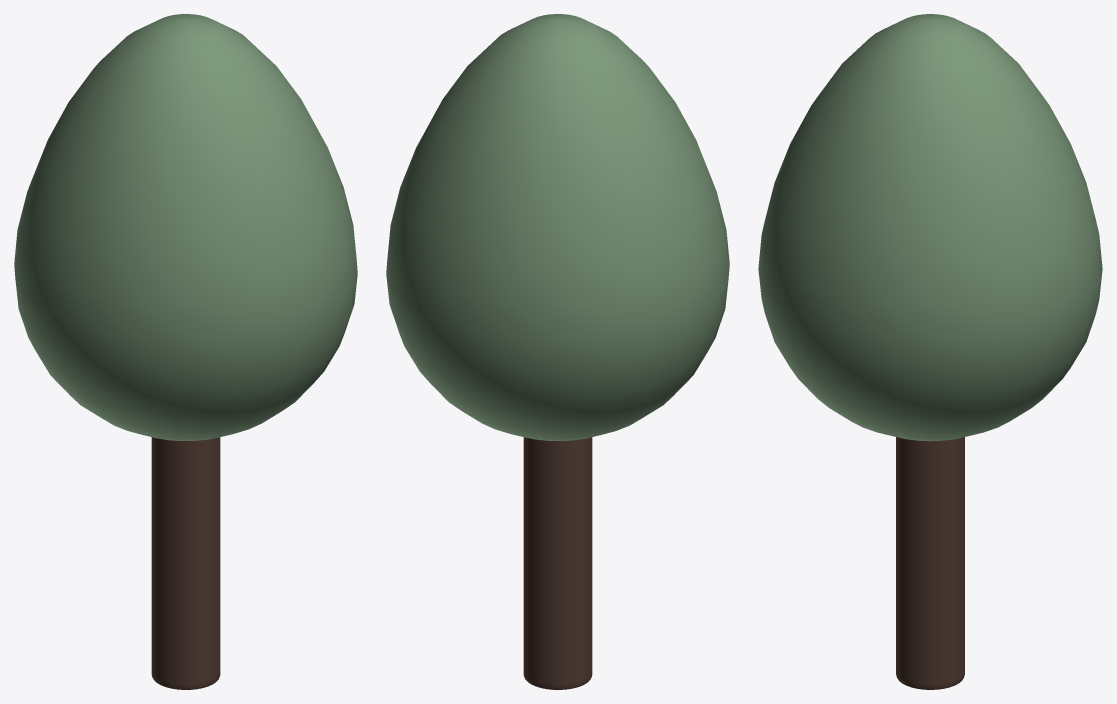
File: Tree.glb
3 renders of one model, left to right at view 1: azimuth 30°, elevation 25°; view 2: azimuth 150°, elevation 25°; view 3: azimuth 270°, elevation 25°, orthographic.
Parts seen in each view (by area): view 1: 球体; view 2: 球体; view 3: 球体.
Boxes of the visible parts, x1,y1,x2,y2 form: 球体: (14,14,357,689); 球体: (386,14,729,689); 球体: (758,14,1102,689).
Size of the model in its own units: 3.35 by 7.04 by 3.35.
